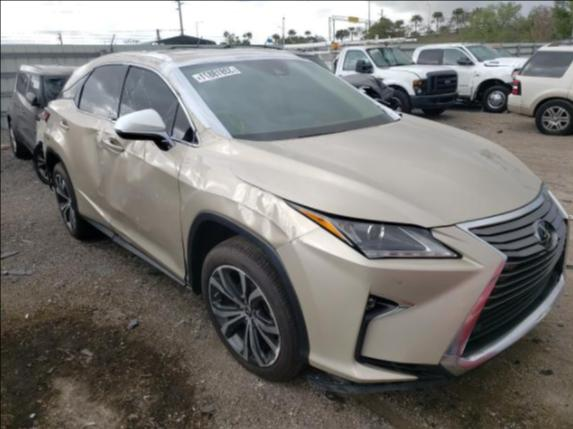Broken part: (81, 213, 185, 289), (295, 358, 458, 398)
Cracked: (119, 66, 177, 133)
Dent: (88, 118, 211, 276), (220, 174, 312, 251)
Flaking: (473, 142, 549, 193)
